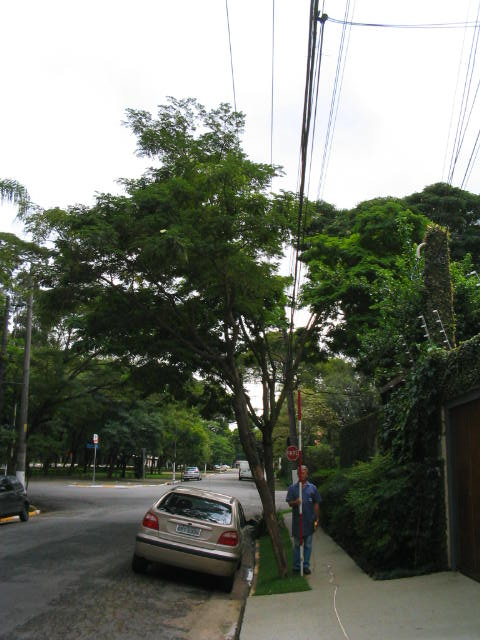crown: (26, 95, 426, 401)
stem: (251, 477, 296, 579)
stick: (289, 391, 312, 577)
tree: (25, 94, 429, 580)
